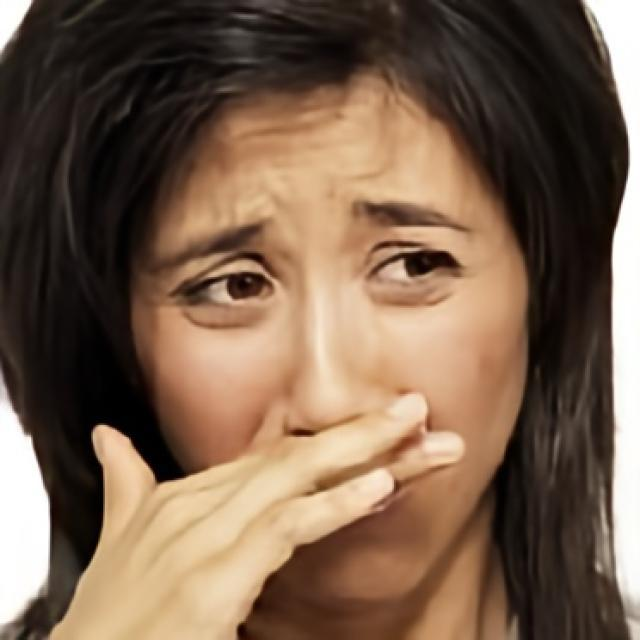sad: (122, 69, 533, 597)
